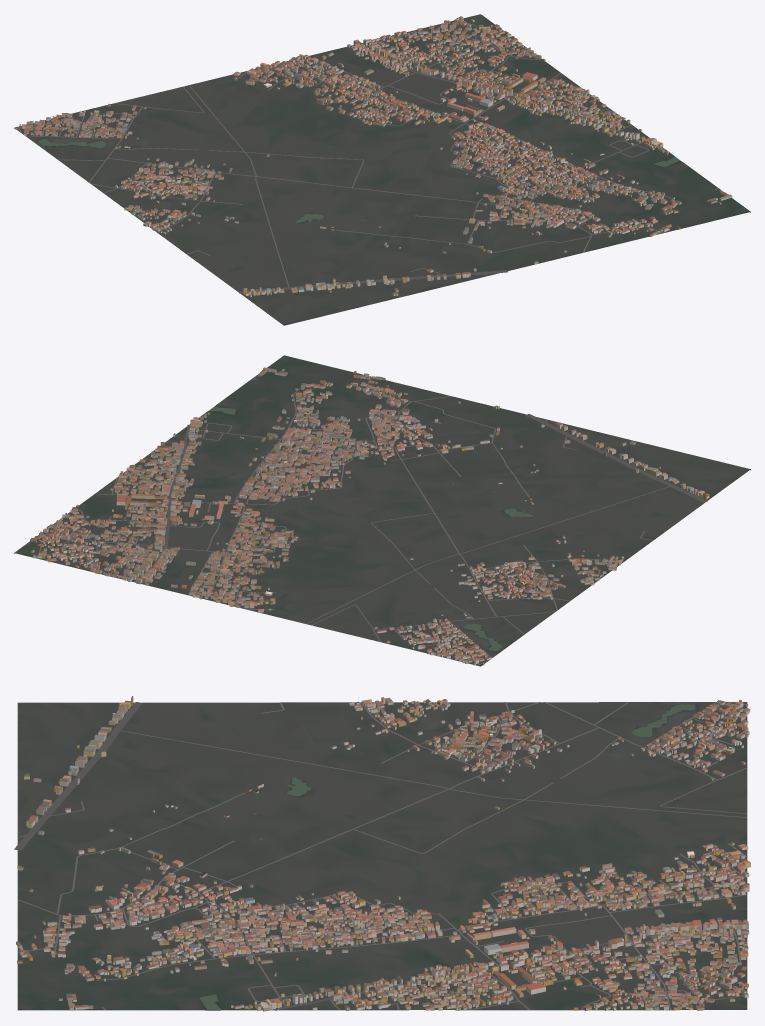
3 views of the same model, one above another, from view 1: azimuth 30°, elevation 25°; view 2: azimuth 150°, elevation 25°; view 3: azimuth 270°, elevation 25° (orthographic). The views are drawn at different scales.
Parts seen in each view (by area): view 1: ground, buildings, roads, water; view 2: ground, buildings, roads, water; view 3: ground, buildings, roads, water.
Part boxes in pixels (x1,y1,x2,y2): ground: (14, 14, 750, 325); buildings: (15, 16, 732, 297); roads: (18, 19, 718, 293); water: (37, 139, 679, 223); ground: (14, 355, 750, 666); buildings: (30, 367, 709, 665); roads: (36, 376, 707, 665); water: (209, 407, 534, 651); ground: (17, 702, 747, 1010); buildings: (16, 696, 750, 1011); roads: (14, 702, 747, 1010); water: (199, 704, 695, 1009).
Bounding box in the file's own units: 1413 × 21.66 × 1416.
